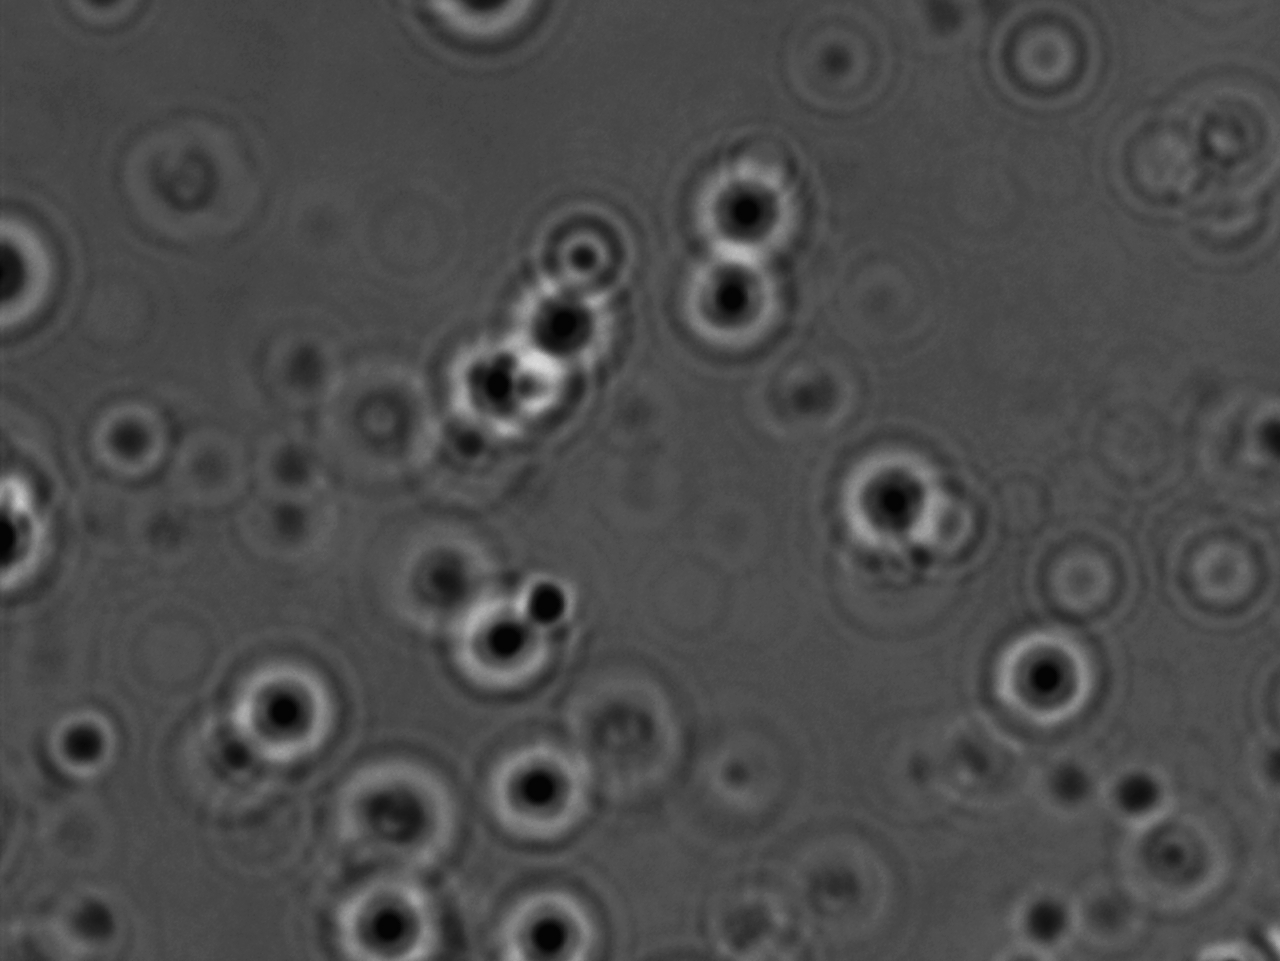depth:-24: (827, 427, 997, 582), (205, 638, 361, 779), (976, 602, 1121, 751), (662, 236, 817, 375), (429, 571, 589, 700), (482, 721, 625, 857), (332, 748, 470, 870), (669, 139, 802, 257), (330, 852, 470, 961), (488, 872, 623, 961)
